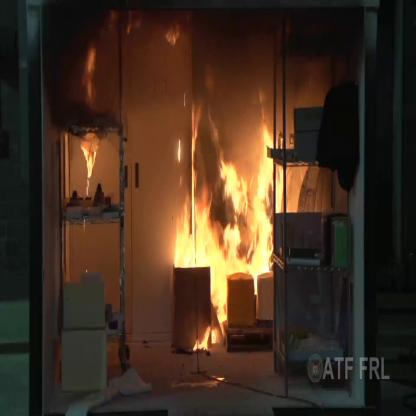fire: (166, 118, 287, 338)
smoke: (51, 0, 352, 342)
